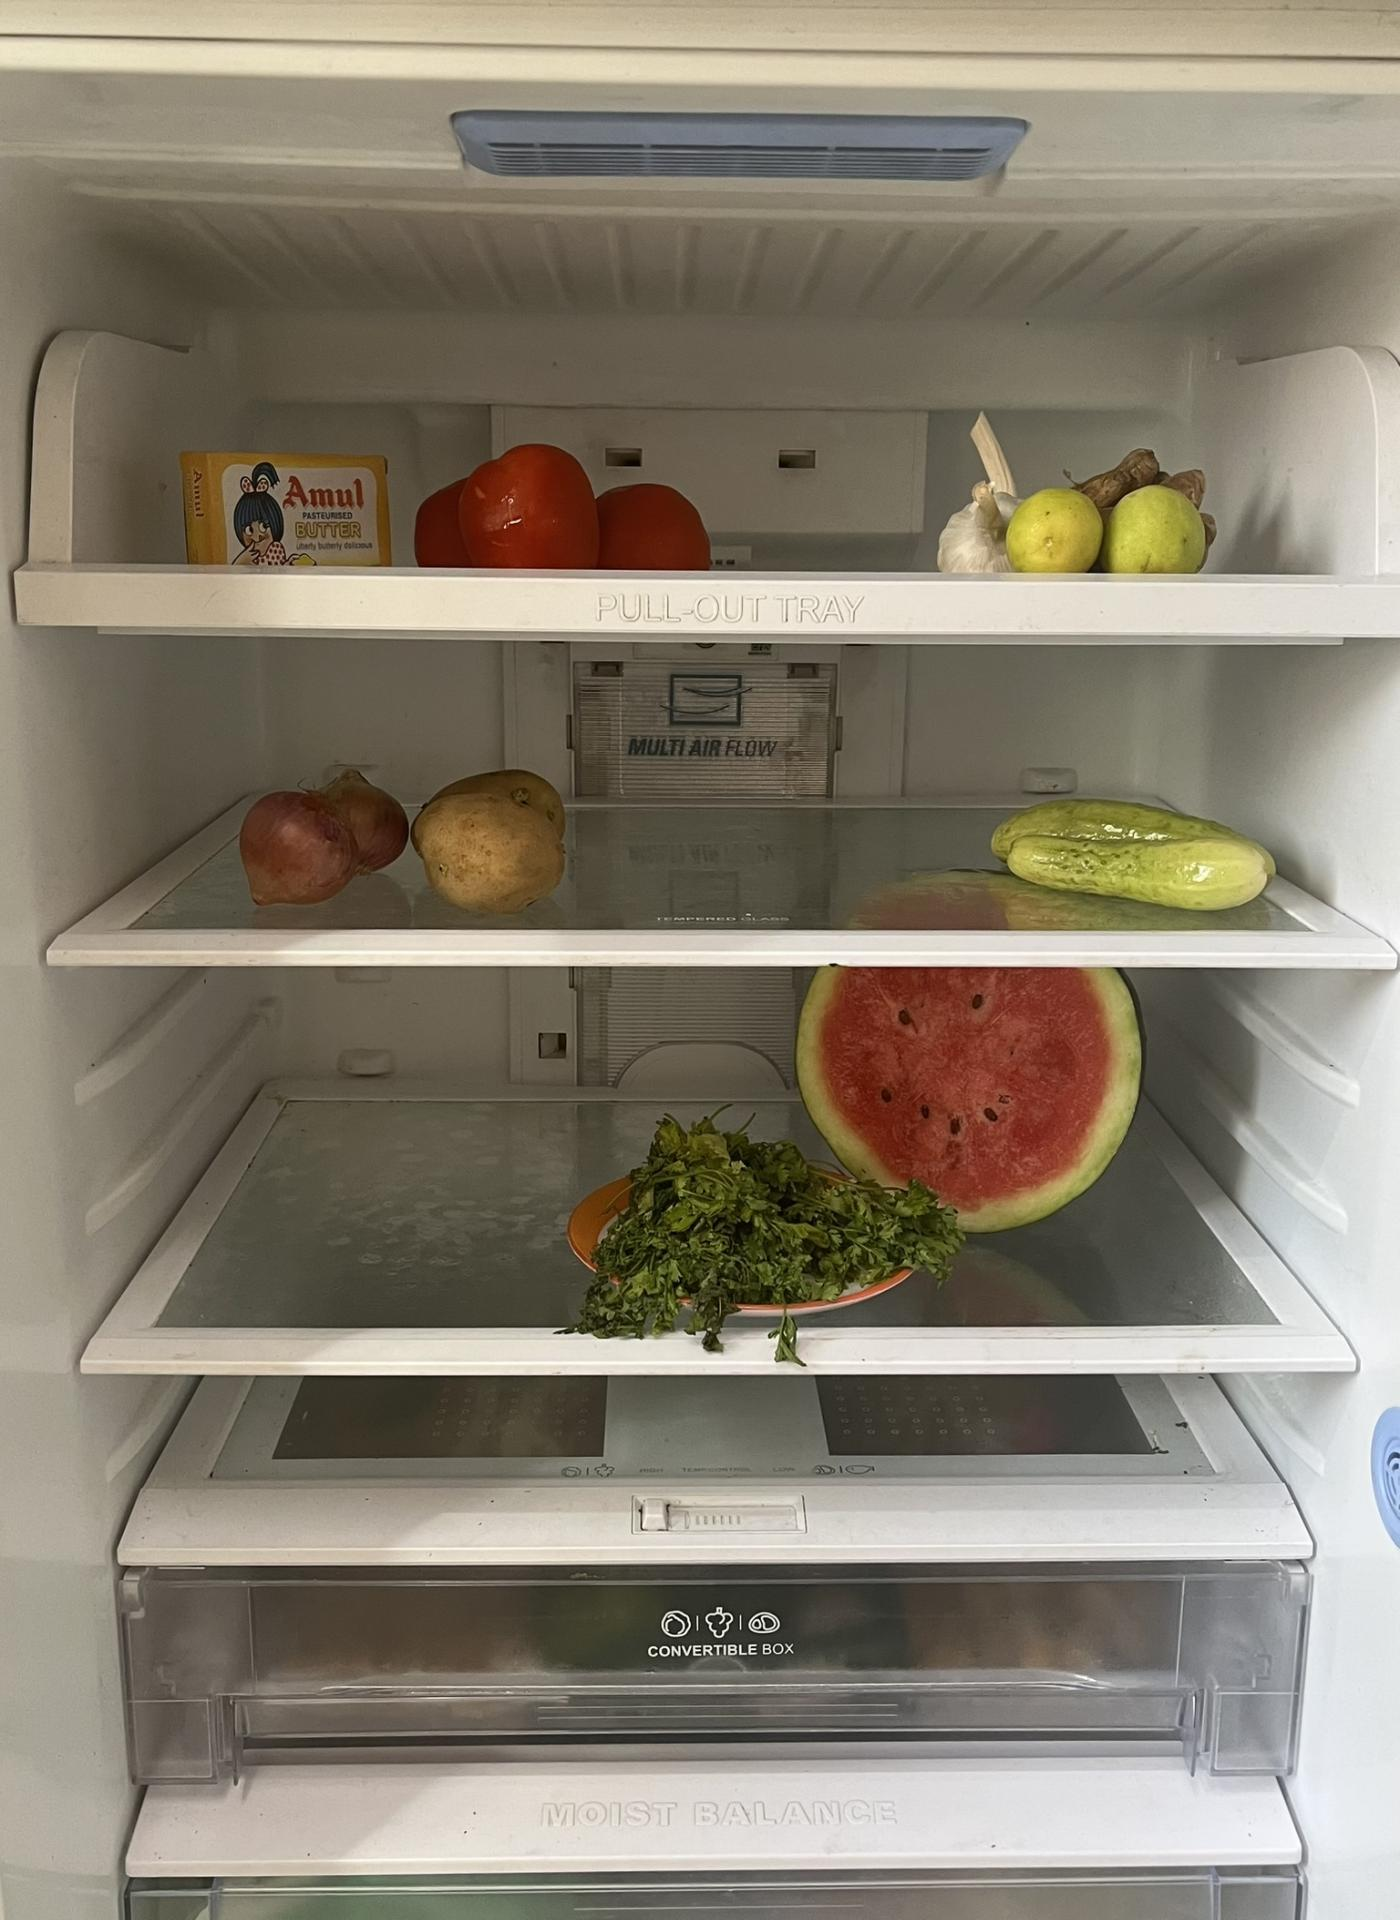butter: (182, 441, 395, 571)
coriander: (583, 1106, 963, 1351)
cucumber: (987, 800, 1279, 903)
garlic: (938, 405, 1008, 575)
ginger: (1069, 444, 1203, 493)
lemon: (1024, 487, 1197, 575)
onion: (246, 766, 407, 906)
potato: (413, 766, 568, 909)
tomato: (416, 447, 717, 562)
watermelon: (802, 881, 1142, 1237)
